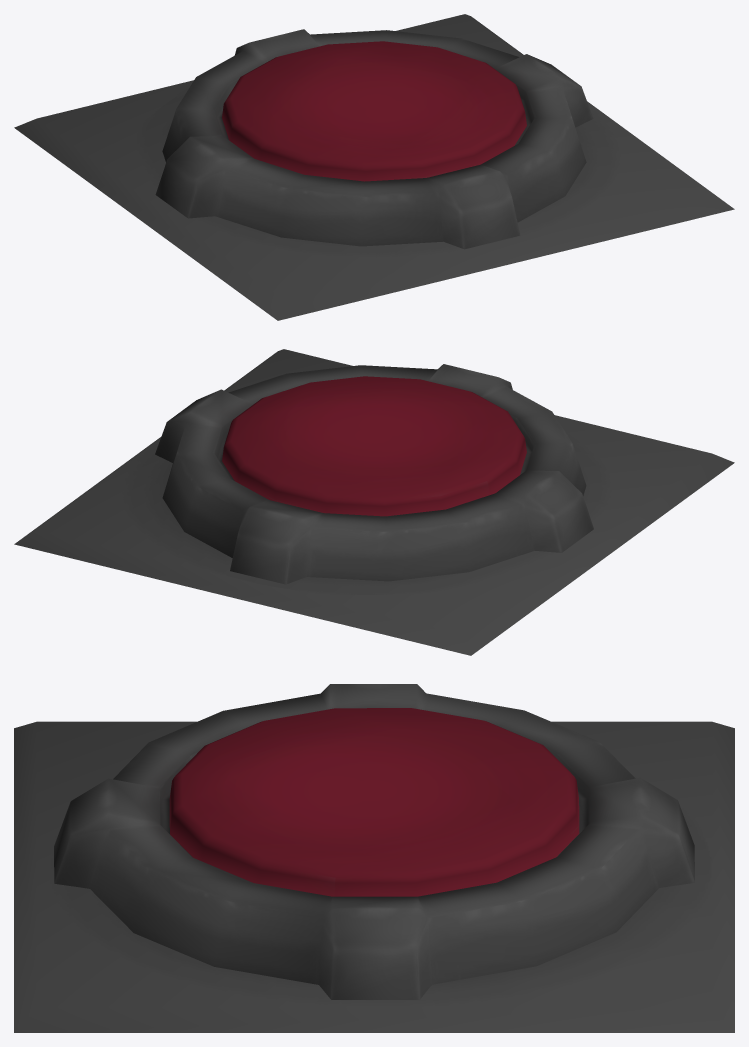
Rendered from boton.glb.
3 views of the same model, one above another, from view 1: azimuth 30°, elevation 25°; view 2: azimuth 150°, elevation 25°; view 3: azimuth 270°, elevation 25° (orthographic). The views are drawn at different scales.
Visible parts, largest first — view 1: Plane; view 2: Plane; view 3: Plane.
Boxes of the visible parts, bbox=[...] form: Plane: bbox=[14, 14, 734, 320]; Plane: bbox=[14, 349, 734, 655]; Plane: bbox=[14, 684, 734, 1032].
Bounding box in the file's own units: 2 × 0.2878 × 2.
Materials: 1 (1 with a texture image).
